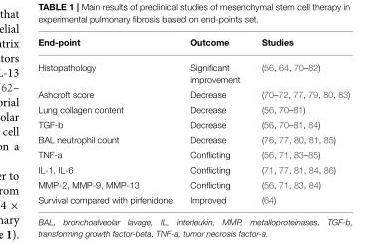table: (37, 37, 349, 204)
table column: (37, 37, 180, 204), (250, 37, 349, 204), (180, 37, 250, 204)
table column header: (37, 37, 349, 54)
table row: (37, 54, 349, 87), (37, 37, 349, 54), (37, 87, 349, 102), (37, 102, 349, 117), (37, 117, 349, 132), (37, 132, 349, 147), (37, 147, 349, 162), (37, 162, 349, 177), (37, 177, 349, 192), (37, 192, 349, 204)
